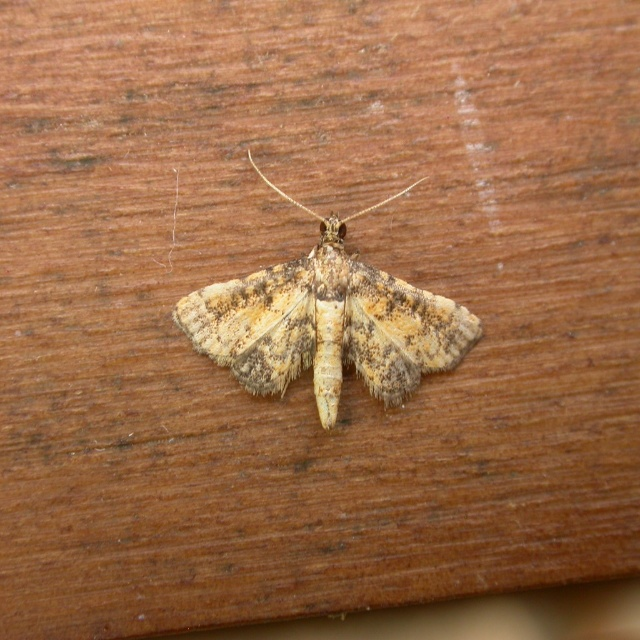Butterfly: (171, 149, 483, 435)
